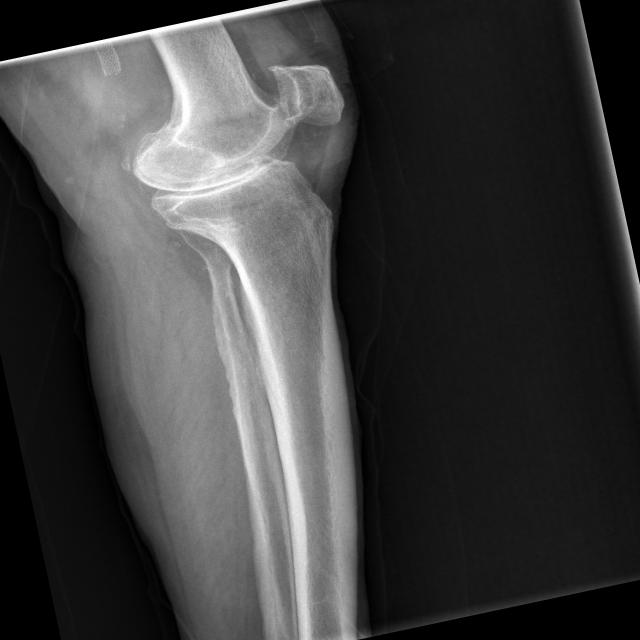Knee: (112, 46, 367, 252)
